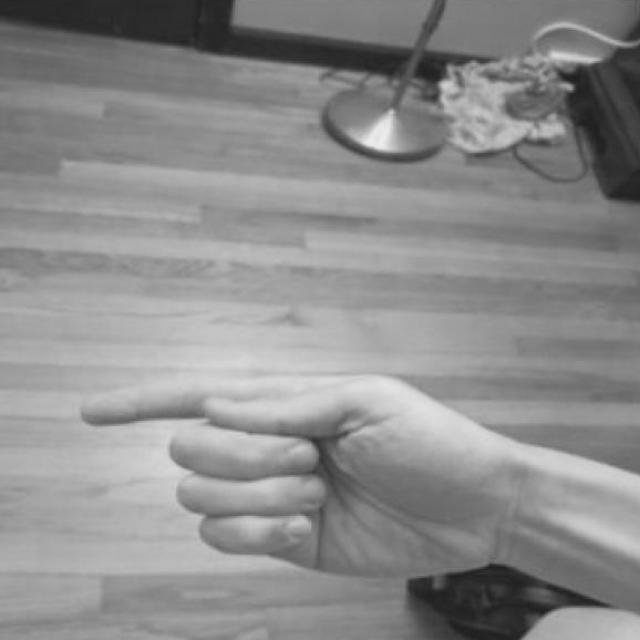G: (66, 324, 543, 612)
